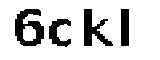6: (9, 5, 46, 50)
I: (119, 2, 135, 54)
c: (49, 13, 76, 51)
k: (81, 2, 116, 52)
